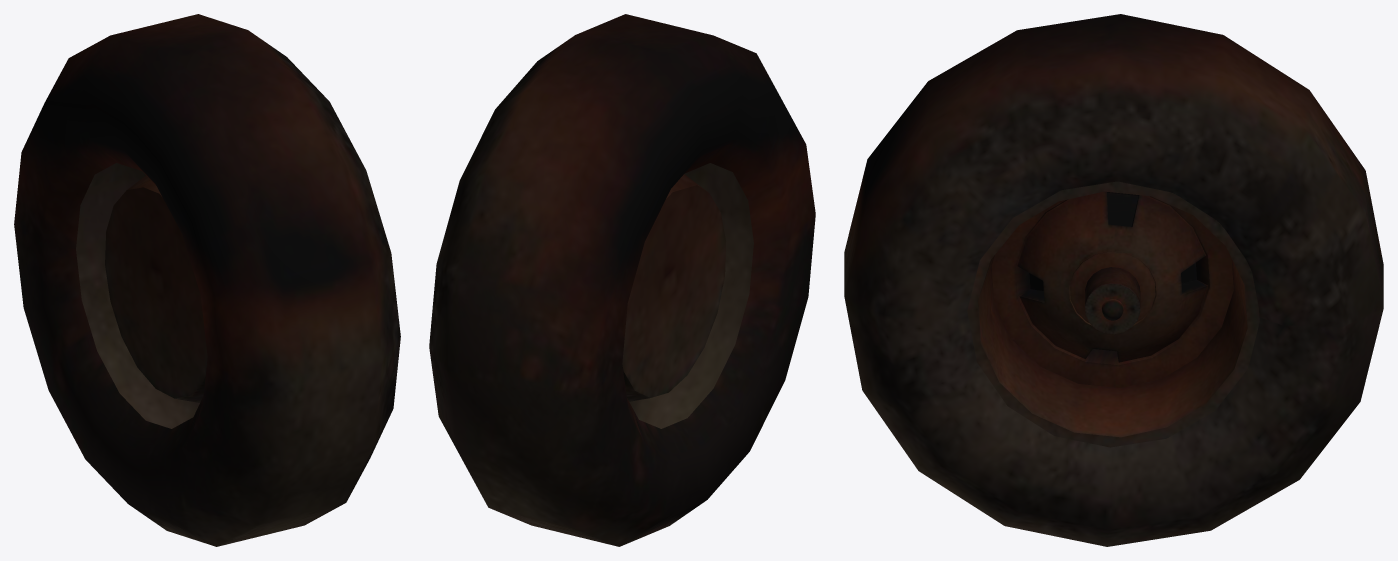
Rendered from R_Wheel.FBX.
The picture shows the model from 3 angles, left to right: view 1: azimuth 30°, elevation 25°; view 2: azimuth 150°, elevation 25°; view 3: azimuth 270°, elevation 25°; orthographic projection. The views are drawn at different scales.
Parts seen in each view (by area): view 1: R_Wheel; view 2: R_Wheel; view 3: R_Wheel.
Boxes of the visible parts, left/top/right/bottom form: R_Wheel: left=14, top=14, right=400, bottom=546; R_Wheel: left=429, top=14, right=815, bottom=546; R_Wheel: left=844, top=14, right=1383, bottom=546.
Bounding box in the file's own units: 6.91 × 19.03 × 19.03.
